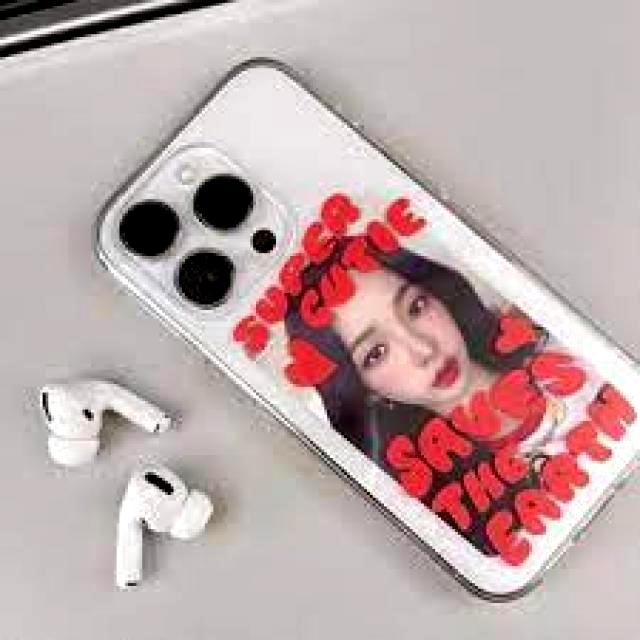lens_back: (164, 245, 244, 317), (188, 165, 258, 237), (113, 198, 183, 261)
